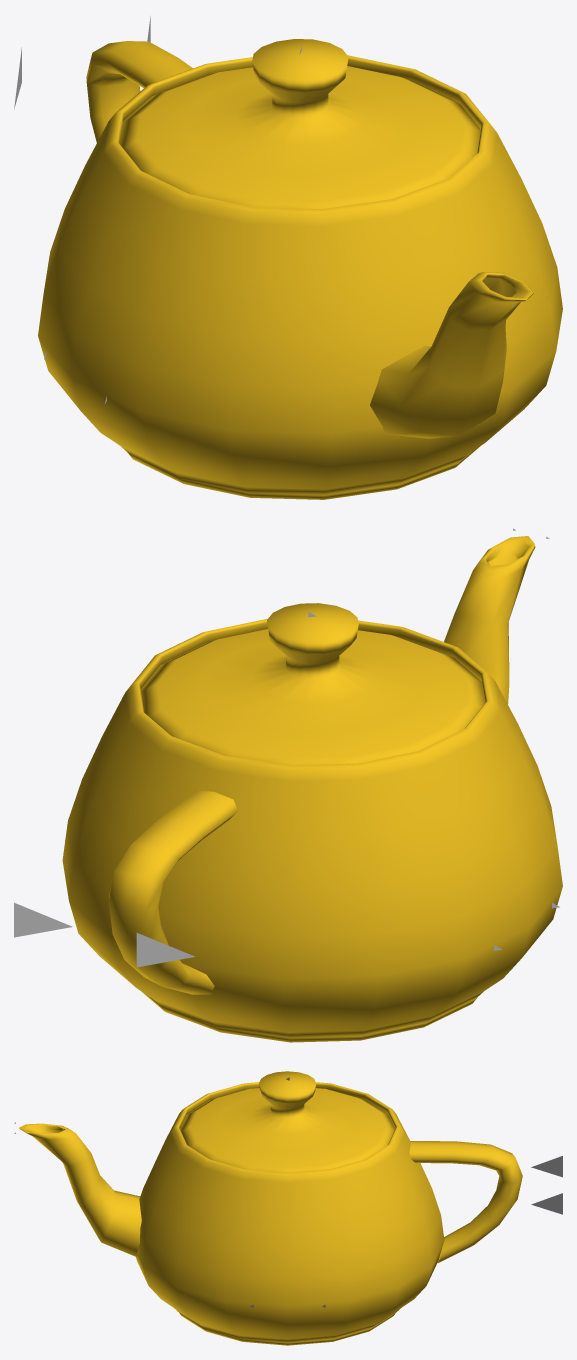
The model's file is teapot.obj.
3 views of the same model, one above another, from view 1: azimuth 30°, elevation 25°; view 2: azimuth 150°, elevation 25°; view 3: azimuth 270°, elevation 25° (orthographic). The views are drawn at different scales.
Parts seen in each view (by area): view 1: Teapot, cockpit; view 2: Teapot, cockpit, engine_glow:0; view 3: Teapot, cockpit, engine_glow:0.
Part boxes in pixels (x1,y1,x2,y2): Teapot: (38,41,562,499); cockpit: (184,39,416,174); Teapot: (62,536,562,1042); cockpit: (201,603,423,732); engine_glow:0: (14,902,195,967); Teapot: (19,1082,522,1345); cockpit: (218,1071,357,1151); engine_glow:0: (531,1156,562,1214).
Size of the model in its own units: 781 by 625 by 1368.
